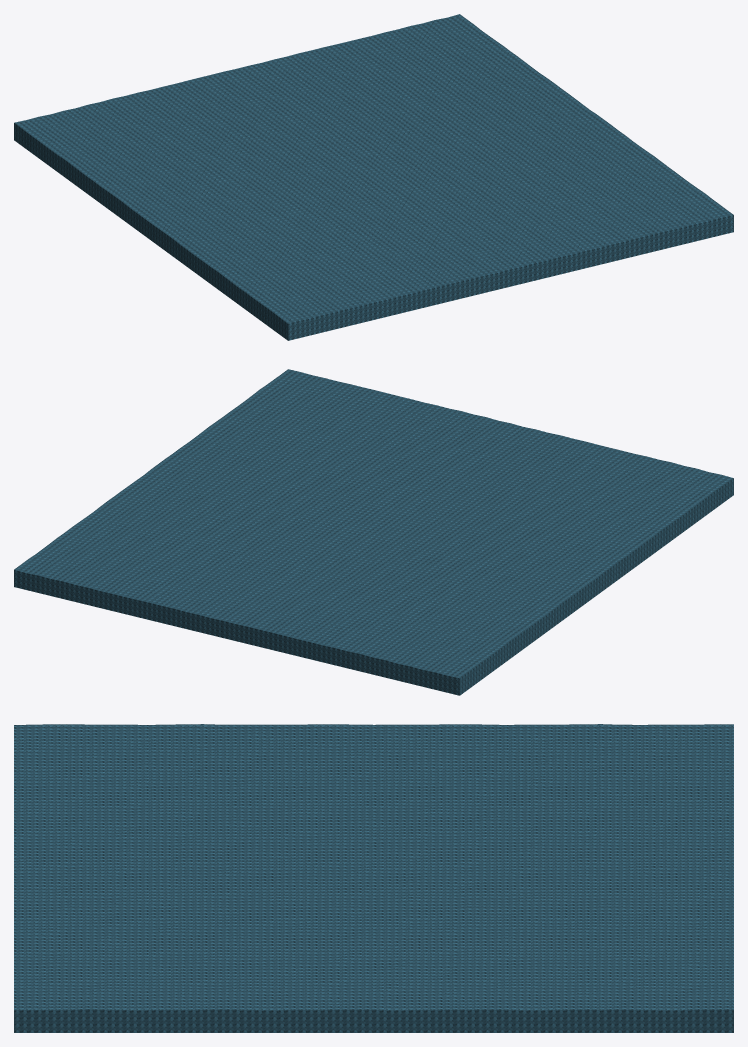
The model's file is strait_water.fbx.
The picture shows the model from 3 angles, top to bottom: view 1: azimuth 30°, elevation 25°; view 2: azimuth 150°, elevation 25°; view 3: azimuth 270°, elevation 25°; orthographic projection. The views are drawn at different scales.
Visible parts, largest first — view 1: strait_water; view 2: strait_water; view 3: strait_water.
Part boxes in pixels (x1,y1,x2,y2): strait_water: (14, 14, 733, 340); strait_water: (14, 369, 733, 695); strait_water: (14, 724, 733, 1032).
Size of the model in its own units: 9200 by 348 by 9800.
